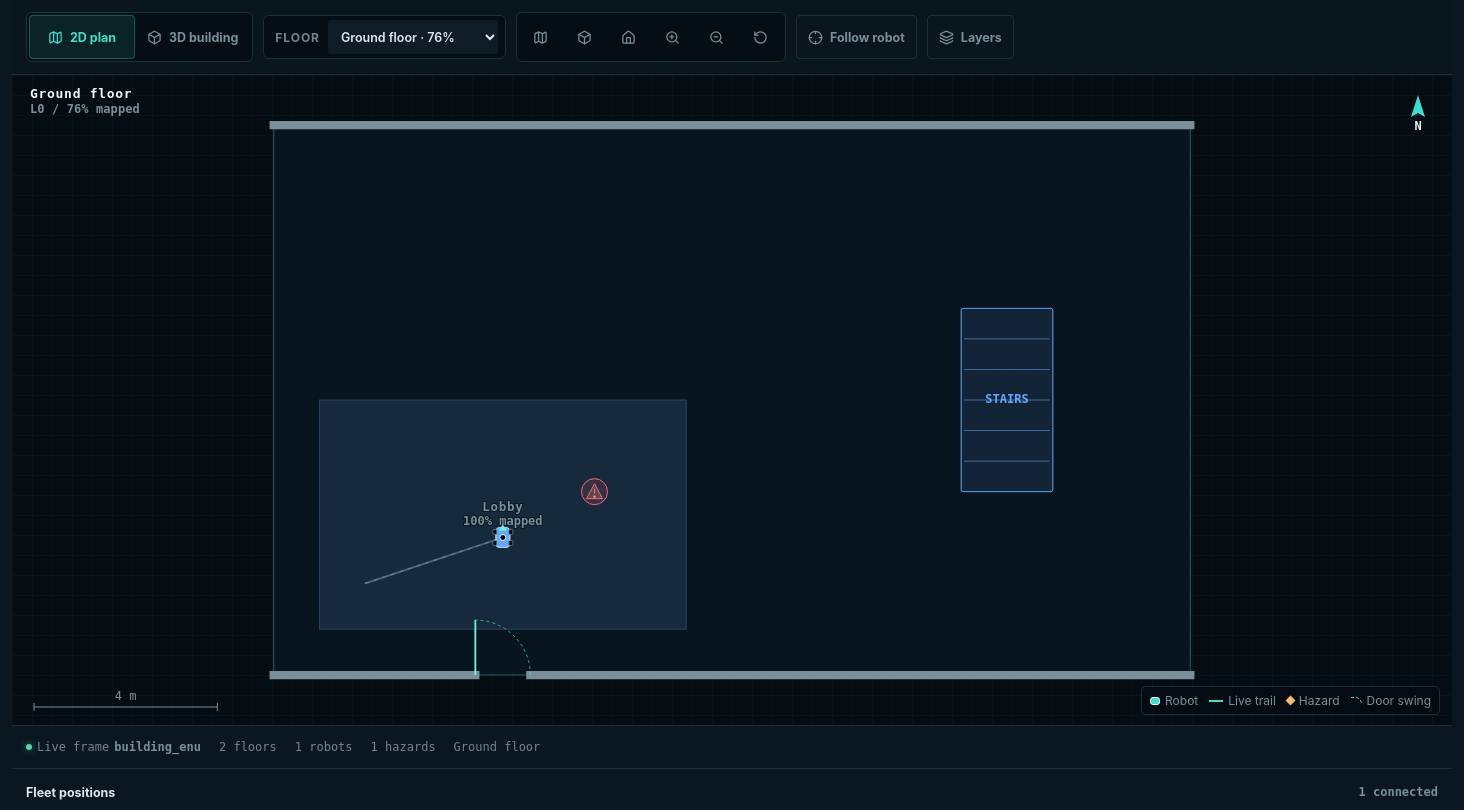
it: DigitalTwinViewport › frames the whole building by selecting every floor
Expected: the dropdown labelled "Floor" shows "Ground floor · 76%", [328,20,498,54]
Click the button named "Frame whole building": [629, 37] box [607,15,651,59]
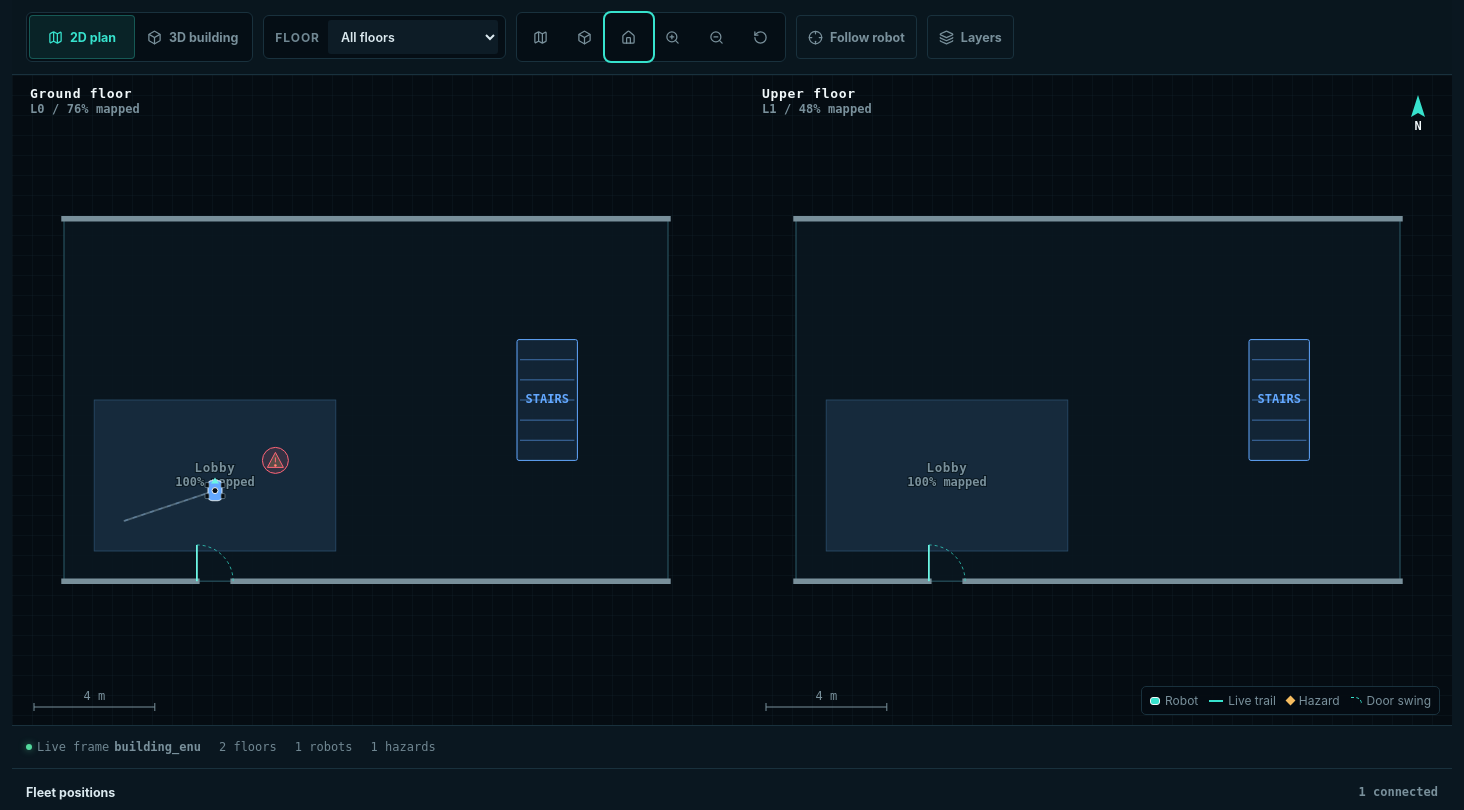
Now the dropdown labelled "Floor" shows "All floors", box [328,20,498,54]
